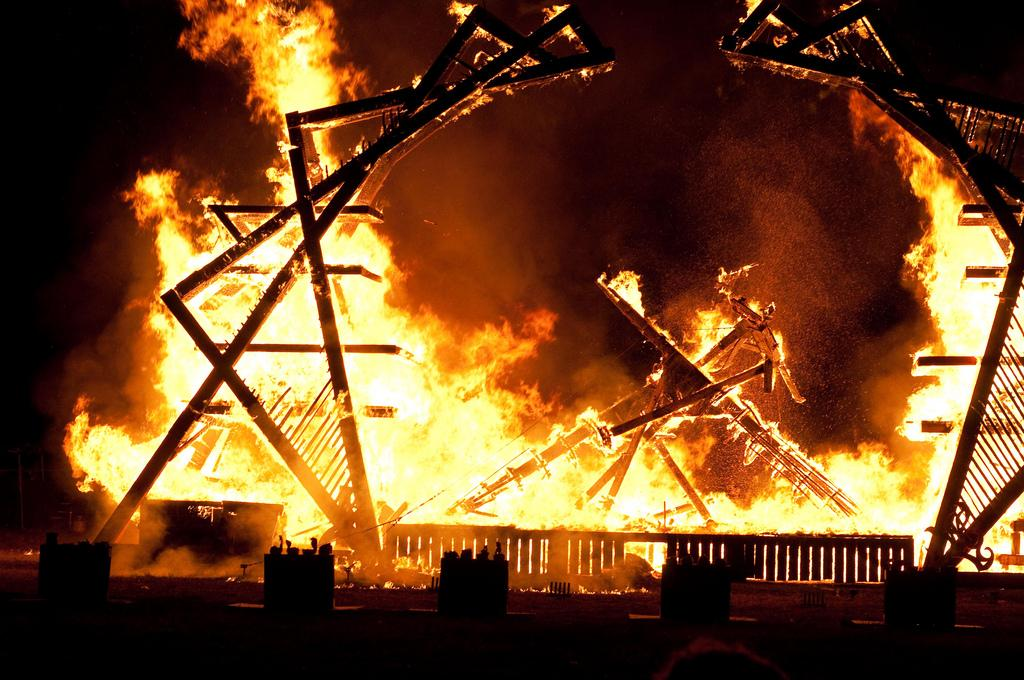fire: (175, 232, 377, 507), (927, 170, 1005, 532), (397, 377, 487, 528), (517, 433, 657, 518), (737, 458, 880, 538)
